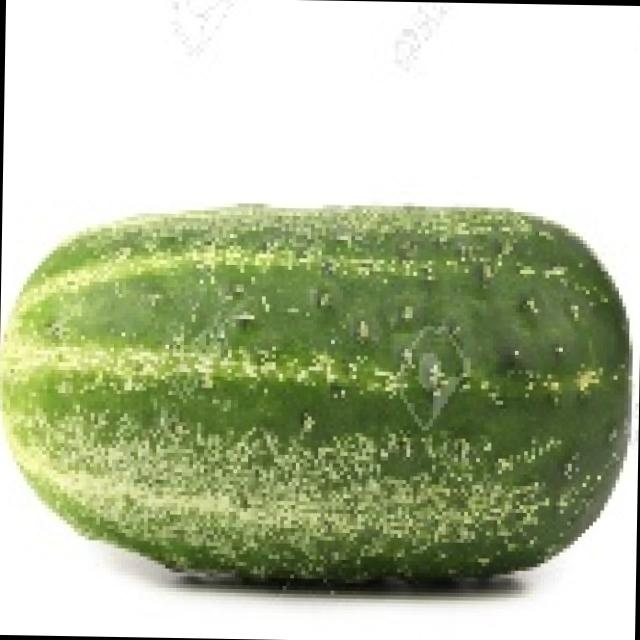cucumber: (0, 199, 631, 591)
